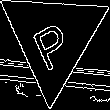P_NW: (28, 8, 78, 70)
